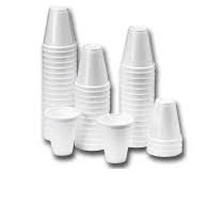paper_cup: (35, 2, 83, 145), (113, 19, 161, 153), (68, 38, 114, 154), (141, 92, 189, 162), (40, 102, 83, 160), (93, 109, 136, 167)
